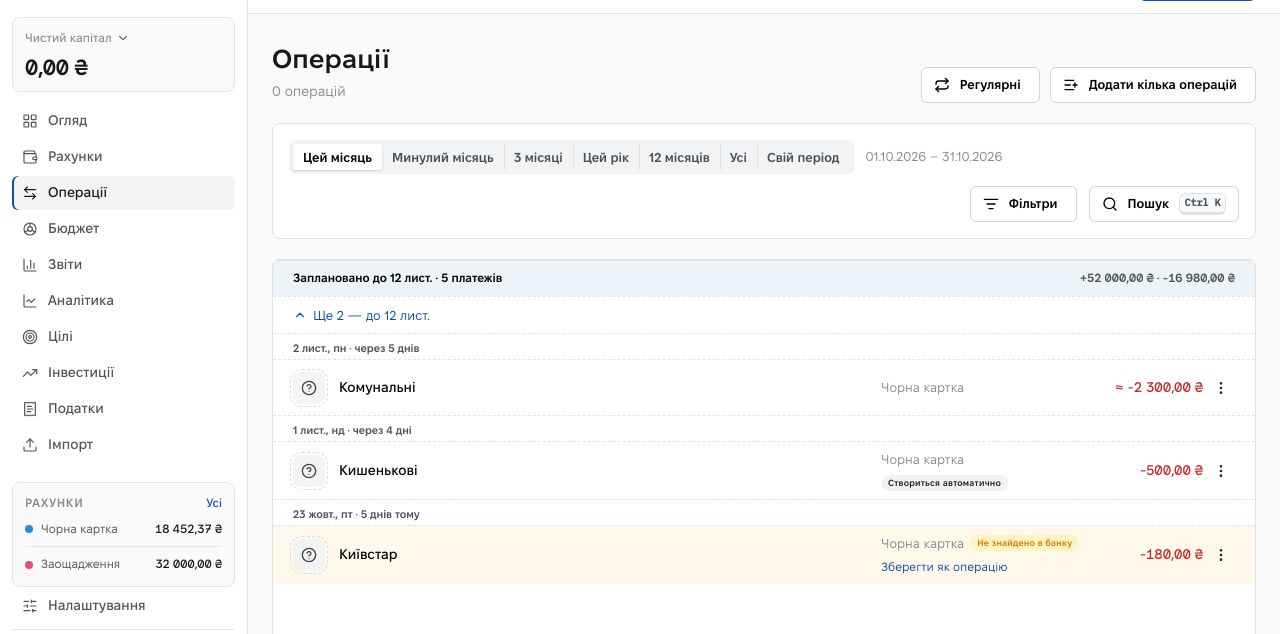
Test case: shows only the nearest planned payments above today until asked for more
Expected: the text "Заплановано до 12 лист. · 5 платежів" is shown, [293,269,502,288]
Expected: the text "Київстар" is shown, [339,546,398,562]
Click the button "Ще 2 — до 12 лист." at x=371, y=315, box [273,296,1255,333]
(page scrolled)
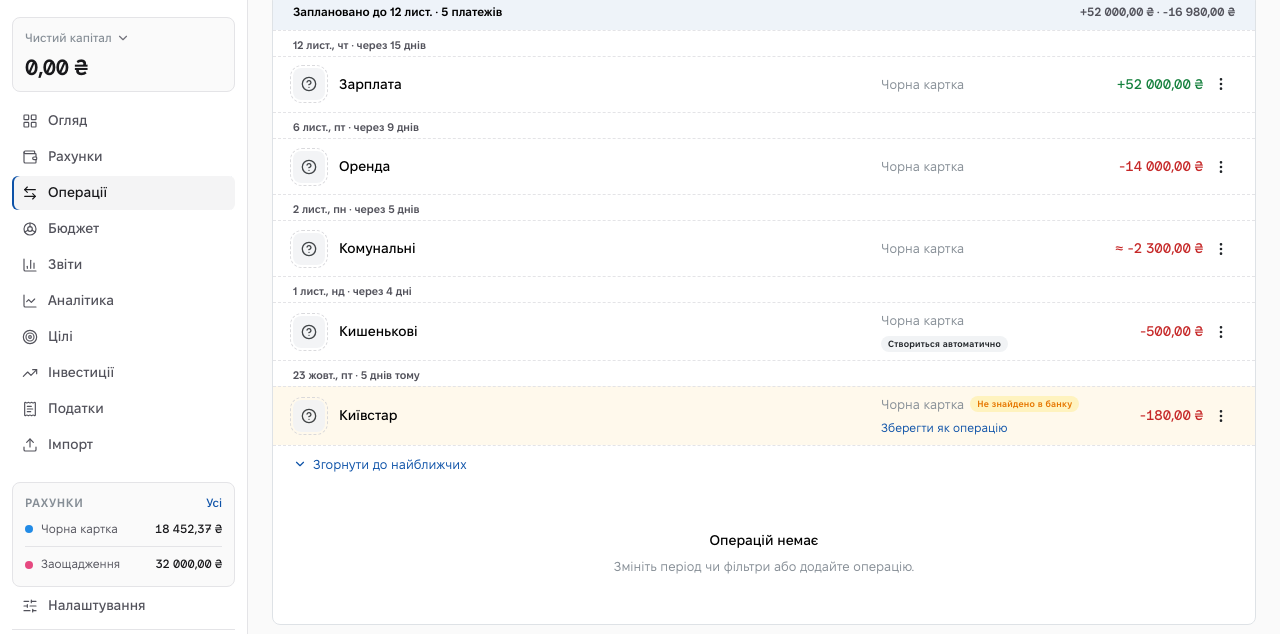
Now the text "Оренда" is shown, box [339,158,390,174]
Now the text "Зарплата" is shown, box [339,76,402,92]
Click the button "Згорнути до найближчих" at x=390, y=464, box [273,445,1255,482]
(page scrolled)
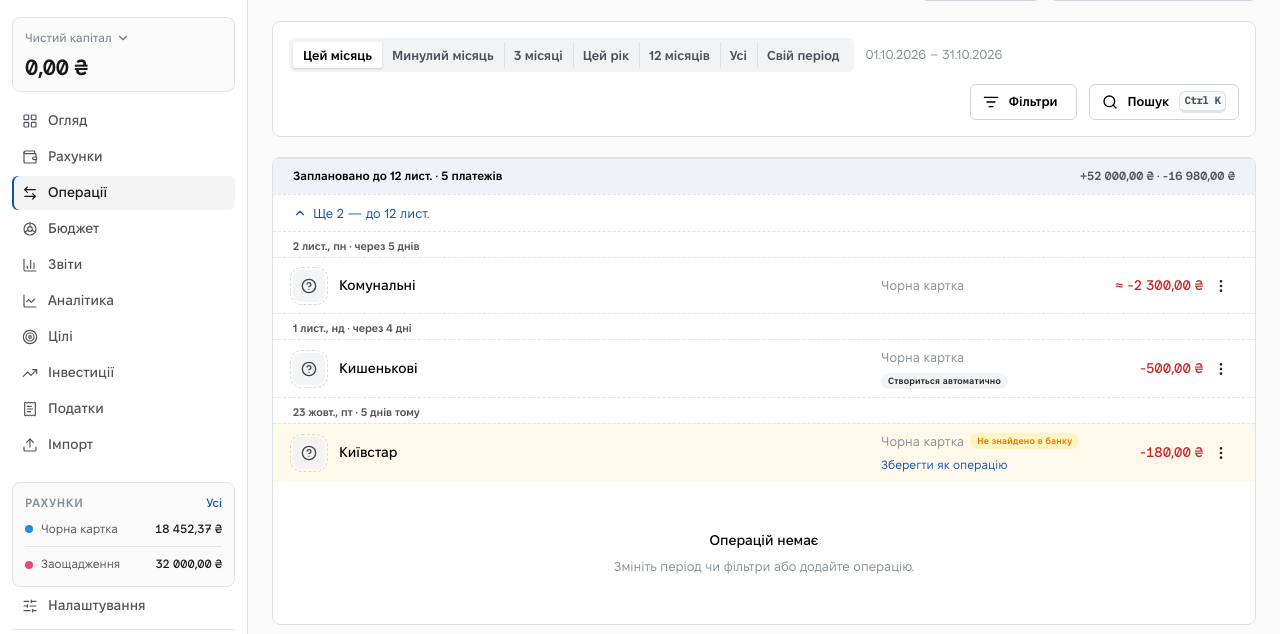
Now the text "Оренда" is gone
